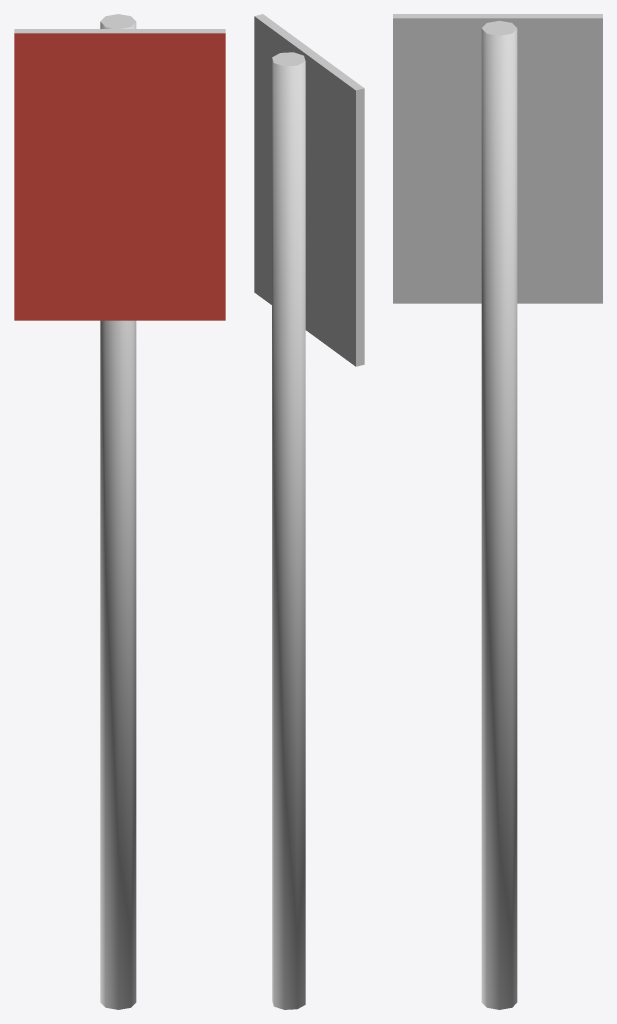
File: Hektometertafel.glb
3 renders of one model, left to right at view 1: azimuth 90°, elevation 25°; view 2: azimuth 210°, elevation 25°; view 3: azimuth 270°, elevation 25°, orthographic. The views are drawn at different scales.
Parts seen in each view (by area): view 1: Hektometertafel; view 2: Hektometertafel; view 3: Hektometertafel.
Part boxes in pixels (box(x1,y1,x2,y2)): Hektometertafel: box(14, 14, 225, 1009); Hektometertafel: box(254, 14, 364, 1009); Hektometertafel: box(393, 14, 602, 1009).
Size of the model in its own units: 0.1358 by 3 by 0.5856.
